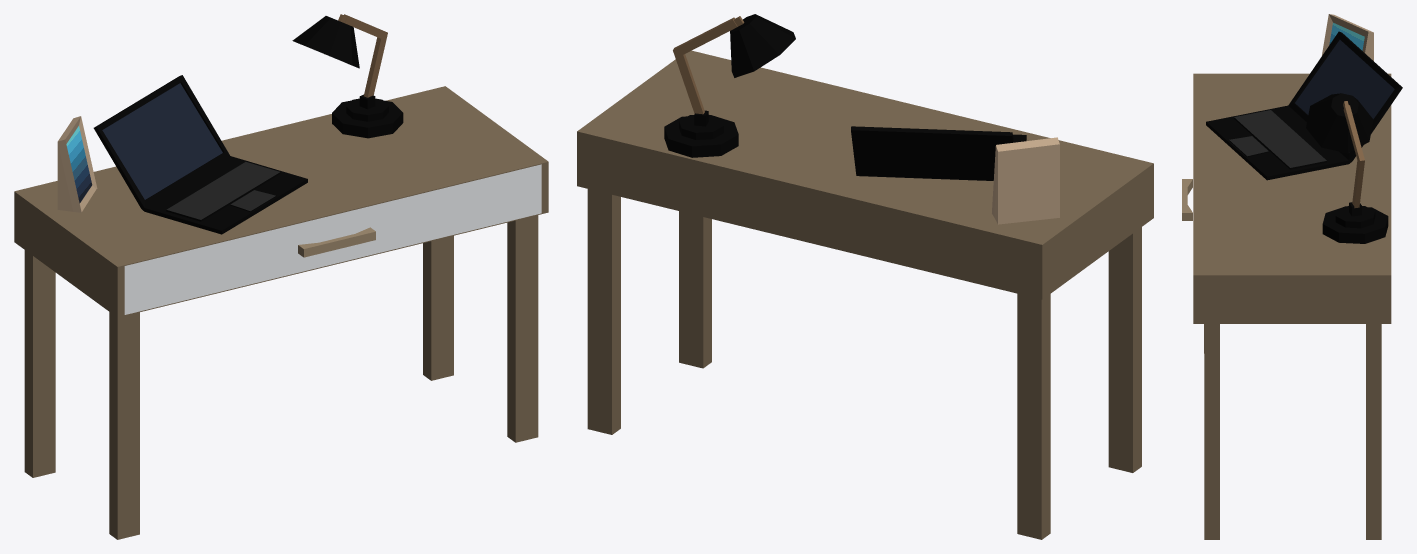
Rendered from Accesories_Office_B.glb.
3 views of the same model, side by side, from view 1: azimuth 30°, elevation 25°; view 2: azimuth 150°, elevation 25°; view 3: azimuth 270°, elevation 25° (orthographic). The views are drawn at different scales.
Visible parts, largest first — view 1: Accesories_Office_B; view 2: Accesories_Office_B; view 3: Accesories_Office_B.
Boxes of the visible parts, <box> form: Accesories_Office_B: <box>14,14,548,539</box>; Accesories_Office_B: <box>577,14,1153,539</box>; Accesories_Office_B: <box>1182,14,1402,539</box>.
Size of the model in its own units: 1.2 by 1.06 by 0.5552.
1 material, 1 textured.
